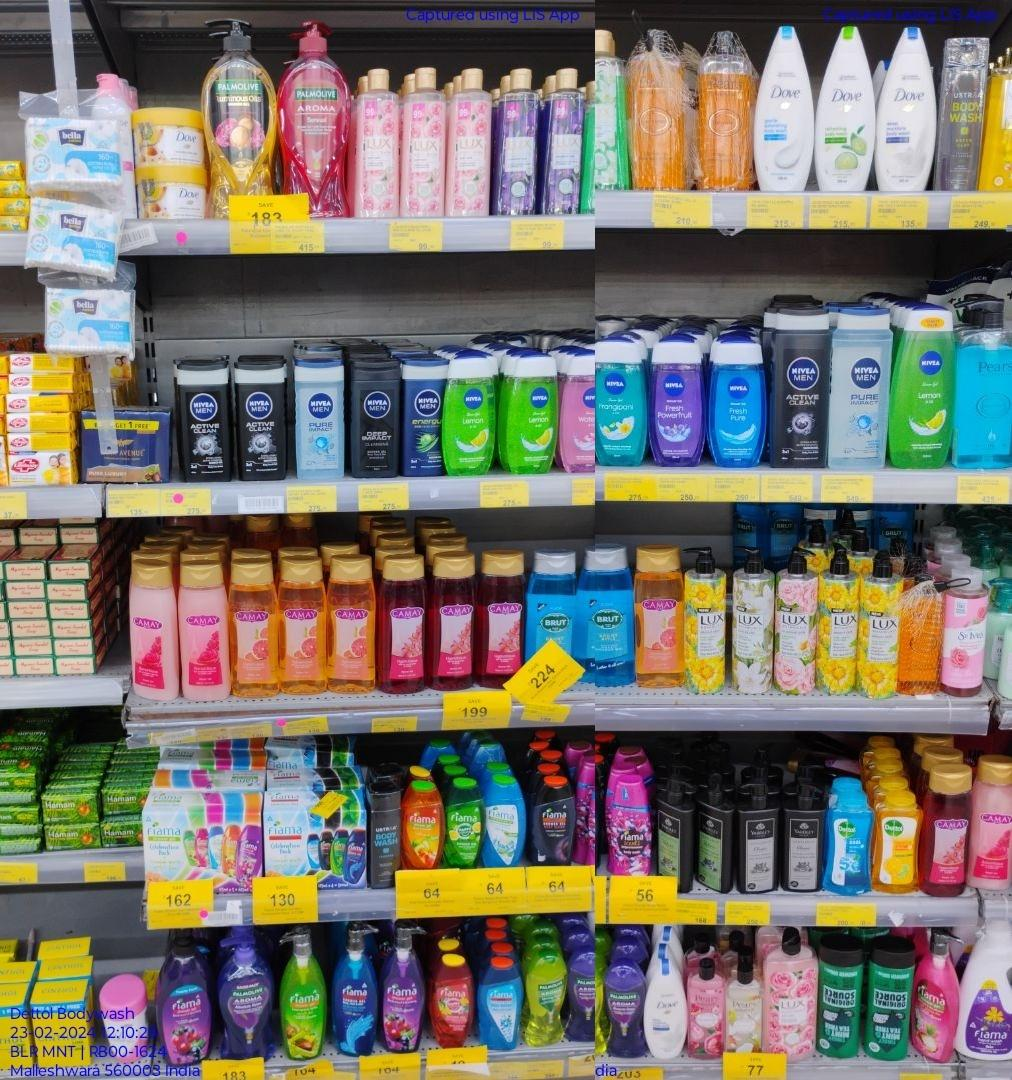Dettol_Bodywash_Cool: (828, 795, 872, 898)
Dettol_Bodywash_Refresh: (876, 794, 917, 892)
Dove_Deep_Moisture_Body_Wash_250ML: (872, 21, 935, 195), (646, 955, 686, 1058)
Dove_Gentle_Exfoliating_Body_Wash_250ML: (758, 25, 815, 189)
Dove_Refreshing_Body_Wash_250ML: (817, 24, 872, 194)
Lux_Black_Orchid_Scent_and_Juniper_Oil_Body_Wash_245ML: (493, 65, 540, 214), (544, 62, 579, 217)
Nivea_Shower_Gel_Frangipani_and_Oil_250ML: (596, 338, 645, 467)
Nivea_Shower_Gel_Fresh_Powerfruit_250ML: (648, 336, 707, 467)
Nivea_Shower_Gel_Lemon_and_Oil_250ML: (891, 306, 954, 470), (441, 352, 494, 473), (509, 351, 555, 476)
Palmolive_Aroma_Morning_Tonic_Shower_Gel_250ML: (529, 952, 567, 1044)
Palmolive_Aroma_Relax_250ML: (608, 962, 643, 1058)
